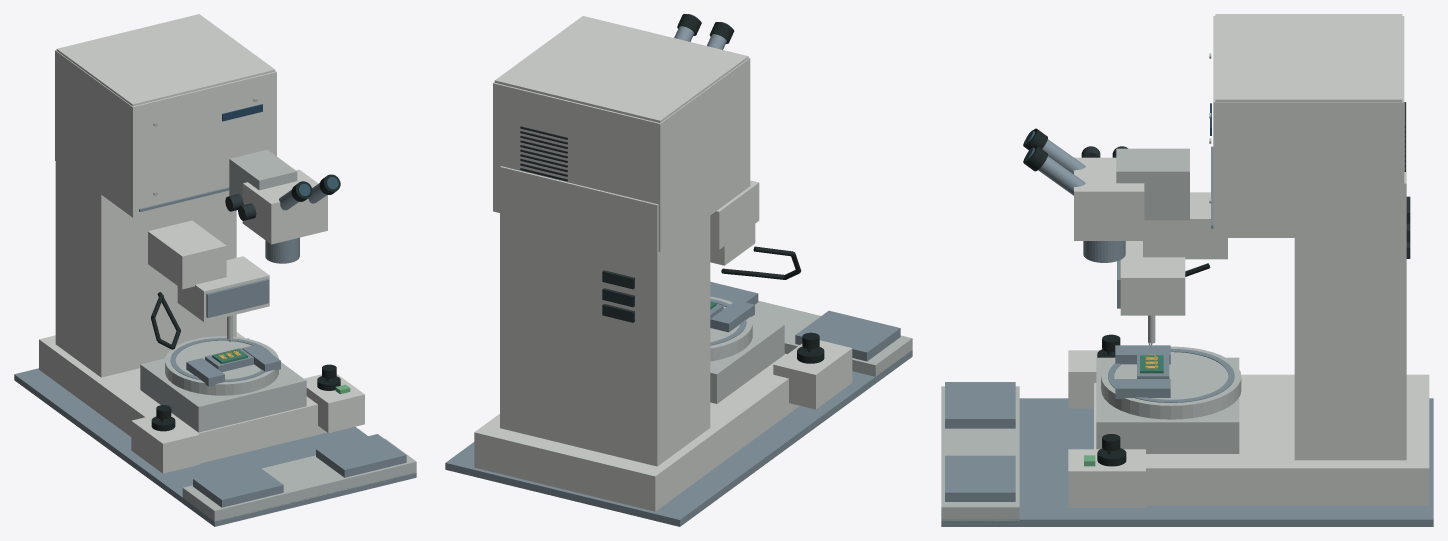
The model's file is dage-4000.glb.
3 renders of one model, left to right at view 1: azimuth 30°, elevation 25°; view 2: azimuth 150°, elevation 25°; view 3: azimuth 270°, elevation 25°, orthographic. The views are drawn at different scales.
Visible parts, largest first — view 1: Upper_case_main, Main_spine, Top_cover_670, Frame_lower_base, Base_425w_730d, XY_stage_carriage, Front_armrest_frame, Cartridge_mount, Microscope_stereo_body, Round_stage_disc, Joystick_console_-174, Padded_armrest_-129 (+10 smaller); view 2: Main_spine, Upper_case_main, Frame_lower_base, Top_cover_670, Base_425w_730d, Joystick_console_-174, XY_stage_carriage, Padded_armrest_-129, Front_armrest_frame, Cartridge_mount, Round_stage_disc, Clamp_foot_-59 (+2 smaller); view 3: Upper_case_main, Main_spine, Frame_lower_base, Top_cover_670, Base_425w_730d, XY_stage_carriage, Round_stage_disc, Microscope_stereo_body, Front_armrest_frame, Microscope_mount, Pull_WP100g_cartridge, Joystick_console_174 (+10 smaller).
Boxes of the visible parts, x1=… form: Upper_case_main: x1=55, y1=50, x2=276, y2=217; Main_spine: x1=55, y1=161, x2=236, y2=377; Top_cover_670: x1=56, y1=14, x2=275, y2=106; Frame_lower_base: x1=39, y1=332, x2=326, y2=463; Base_425w_730d: x1=14, y1=368, x2=416, y2=526; XY_stage_carriage: x1=140, y1=338, x2=306, y2=432; Front_armrest_frame: x1=182, y1=438, x2=416, y2=521; Cartridge_mount: x1=148, y1=220, x2=226, y2=289; Microscope_stereo_body: x1=242, y1=169, x2=327, y2=244; Round_stage_disc: x1=165, y1=336, x2=278, y2=395; Joystick_console_-174: x1=131, y1=414, x2=199, y2=473; Padded_armrest_-129: x1=193, y1=464, x2=283, y2=507; Main_spine: x1=500, y1=166, x2=710, y2=466; Upper_case_main: x1=493, y1=58, x2=750, y2=251; Frame_lower_base: x1=474, y1=353, x2=799, y2=511; Top_cover_670: x1=494, y1=16, x2=748, y2=122; Base_425w_730d: x1=445, y1=350, x2=912, y2=526; Joystick_console_-174: x1=773, y1=340, x2=852, y2=409; XY_stage_carriage: x1=710, y1=317, x2=784, y2=403; Padded_armrest_-129: x1=795, y1=310, x2=900, y2=361; Front_armrest_frame: x1=752, y1=300, x2=912, y2=376; Cartridge_mount: x1=710, y1=180, x2=759, y2=249; Round_stage_disc: x1=710, y1=296, x2=752, y2=361; Clamp_foot_-59: x1=710, y1=300, x2=754, y2=332; Upper_case_main: x1=1213, y1=16, x2=1404, y2=237; Main_spine: x1=1294, y1=102, x2=1406, y2=460; Frame_lower_base: x1=1094, y1=374, x2=1429, y2=505; Top_cover_670: x1=1215, y1=14, x2=1402, y2=101; Base_425w_730d: x1=941, y1=398, x2=1433, y2=526; XY_stage_carriage: x1=1096, y1=357, x2=1239, y2=453; Round_stage_disc: x1=1101, y1=346, x2=1241, y2=419; Microscope_stereo_body: x1=1074, y1=157, x2=1144, y2=240; Front_armrest_frame: x1=941, y1=386, x2=1019, y2=520; Microscope_mount: x1=1116, y1=148, x2=1189, y2=220; Pull_WP100g_cartridge: x1=1120, y1=241, x2=1185, y2=315; Joystick_console_174: x1=1068, y1=449, x2=1145, y2=507.
Size of the model in its own units: 0.425 by 0.67 by 0.73.
